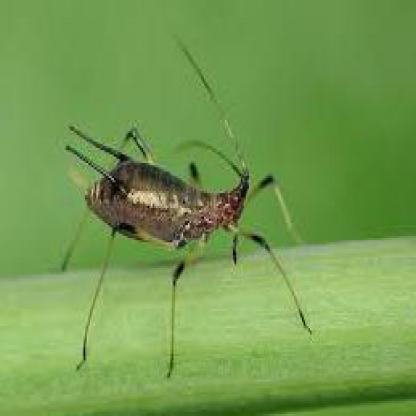uroleucon compositae: (66, 39, 250, 339)
